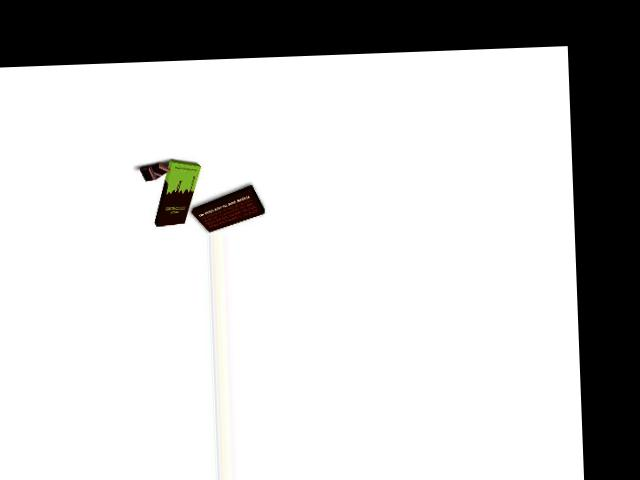chocolate: (157, 156, 199, 227)
